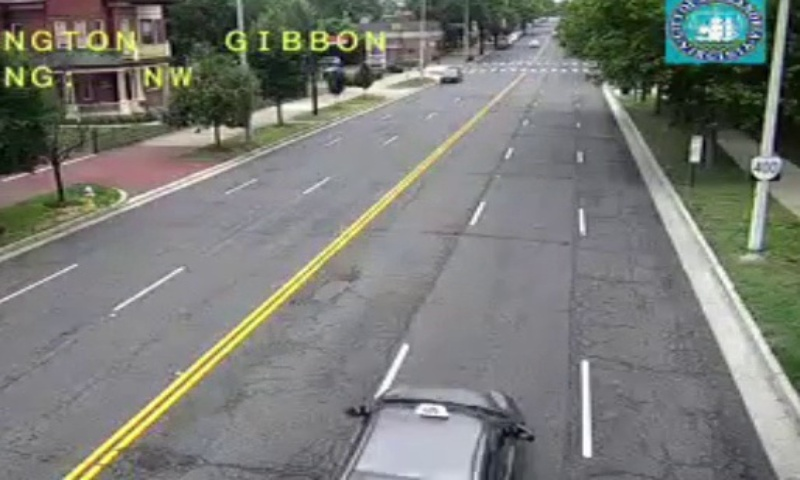car: (342, 385, 521, 480)
